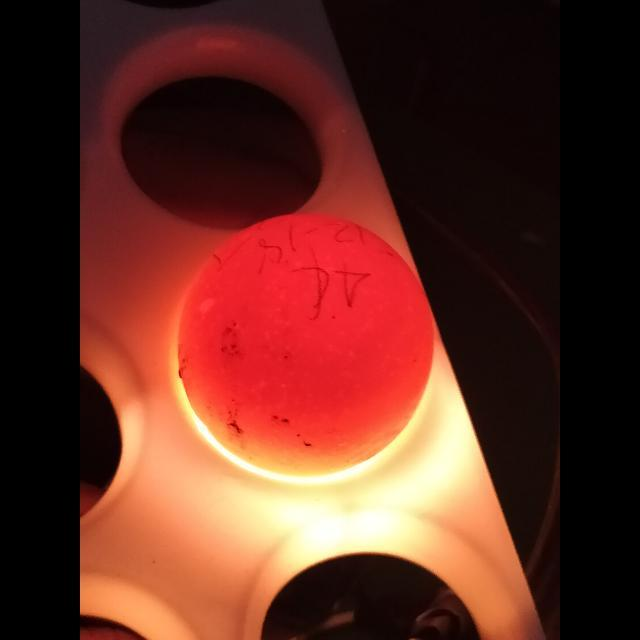Infertile: (180, 204, 430, 468)
